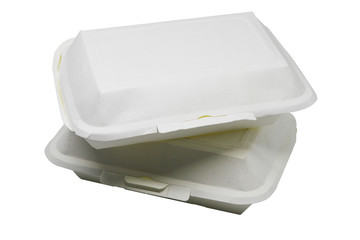styrofoam: (51, 11, 318, 153)
